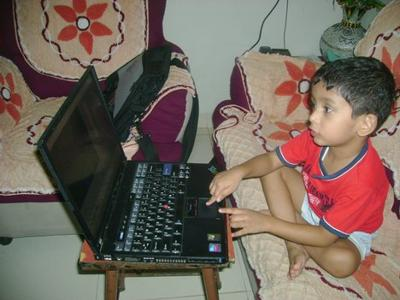person: (204, 57, 398, 279)
